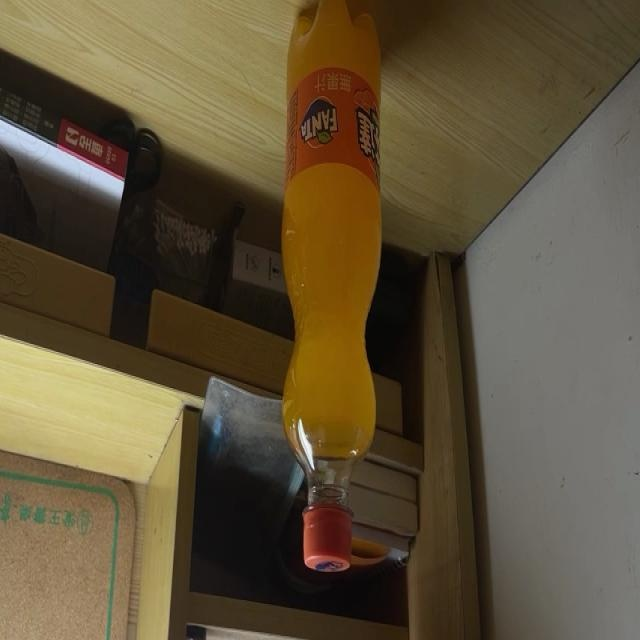Fanta: (282, 0, 382, 570)
